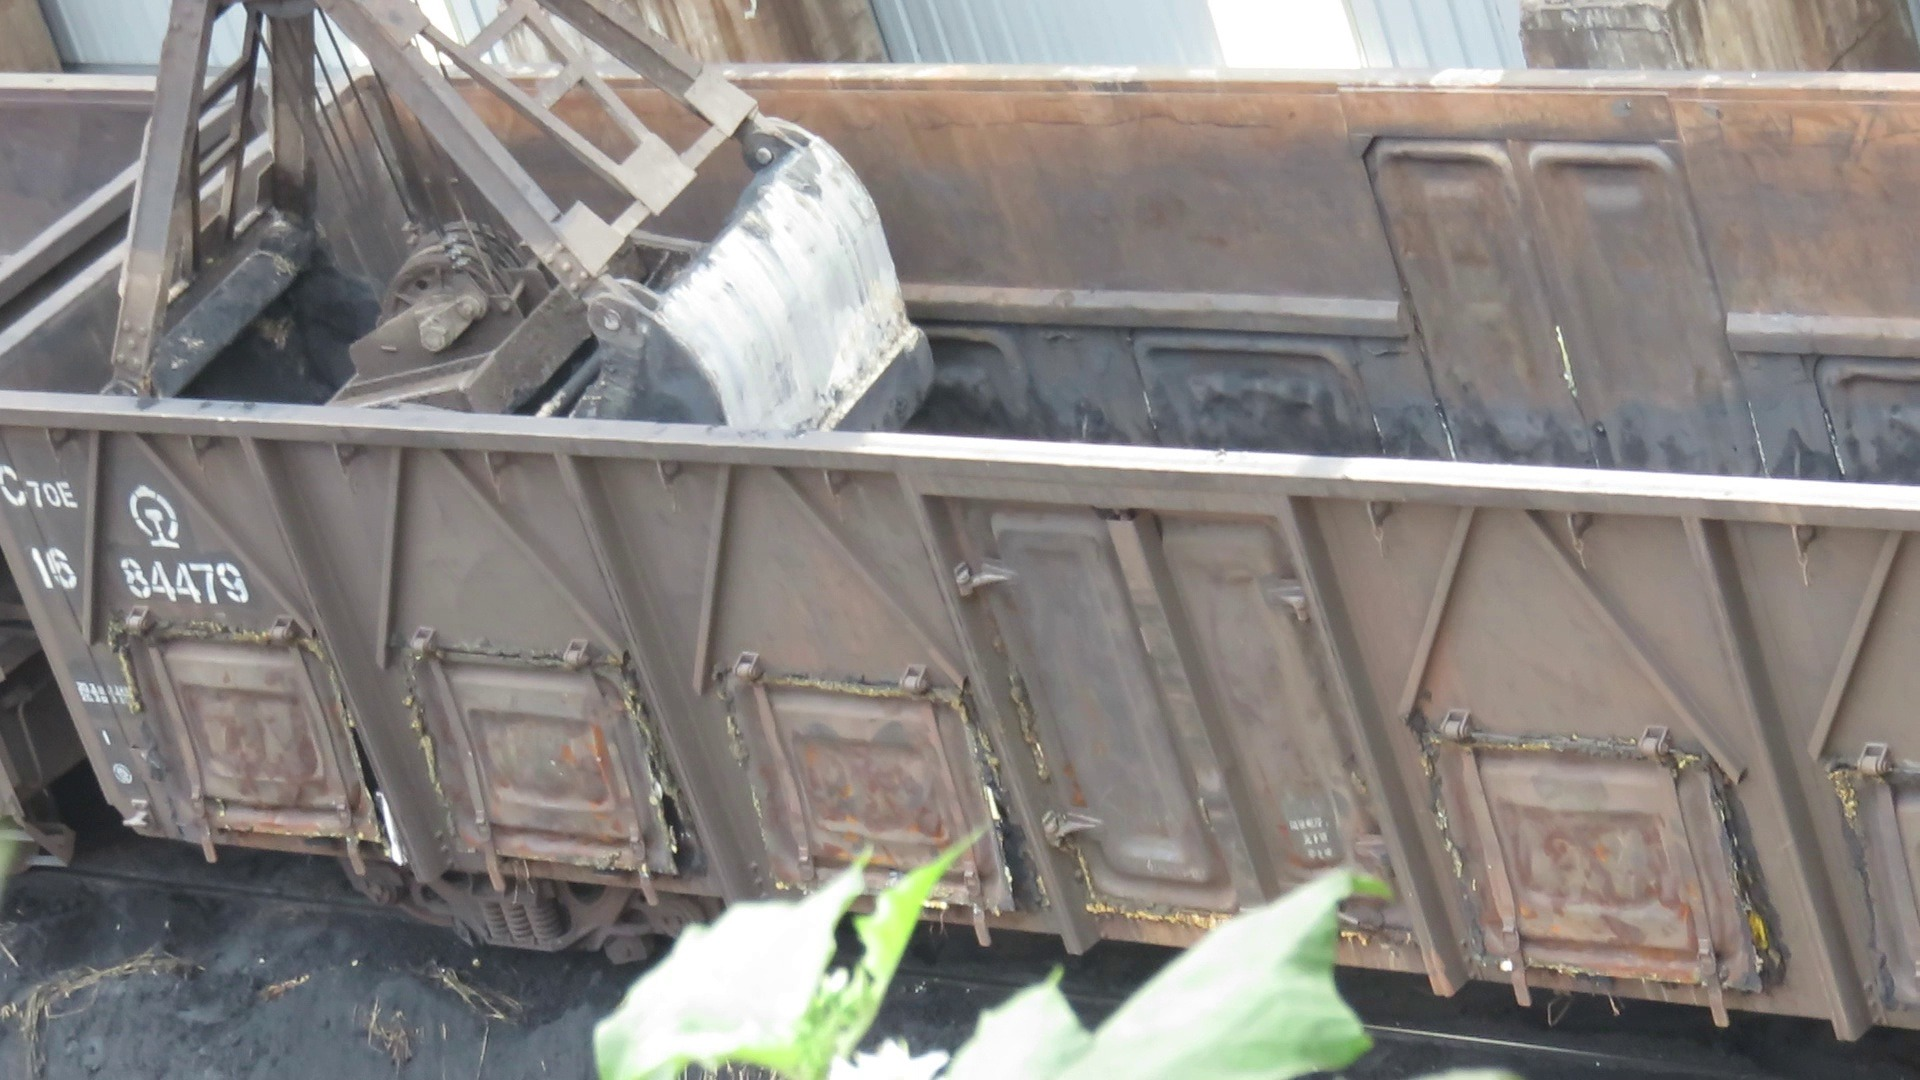grab: (90, 4, 940, 454)
